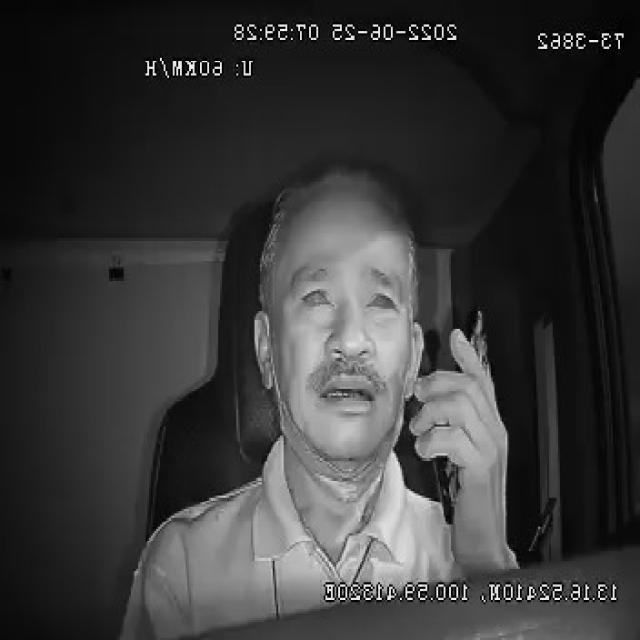phone: (429, 303, 495, 530)
